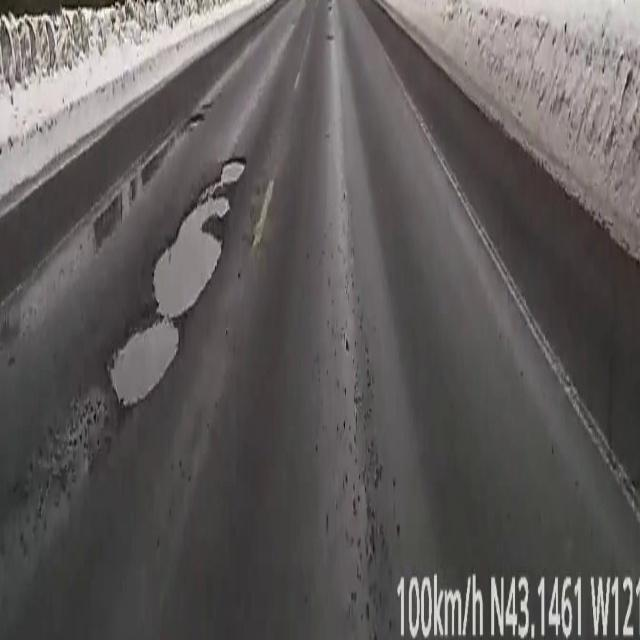pothole: (110, 157, 244, 405)
